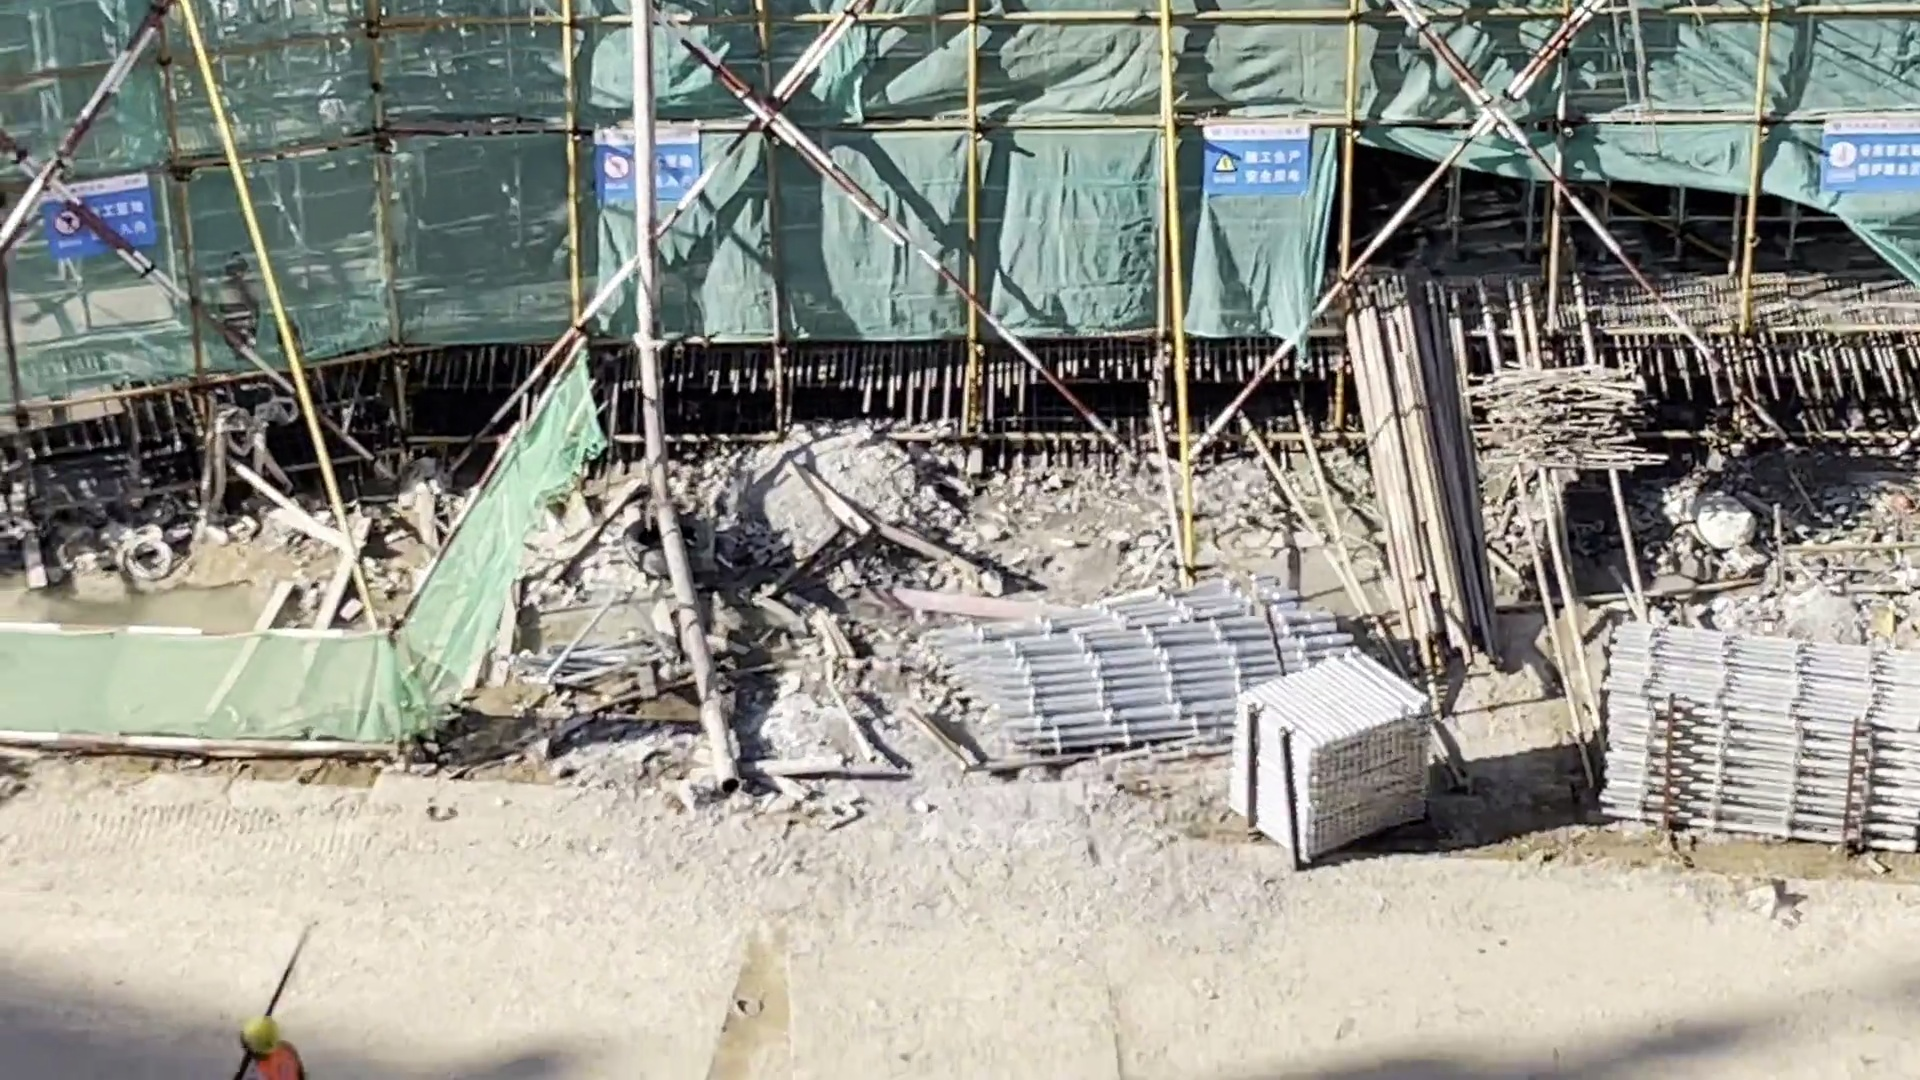helmet: (233, 1002, 293, 1058)
person: (222, 979, 315, 1080)
scaffold: (906, 568, 1364, 794), (1595, 584, 1920, 862), (1222, 657, 1447, 872)
slogan: (26, 153, 177, 272), (1817, 80, 1920, 218), (572, 125, 718, 217), (1189, 113, 1322, 188)
